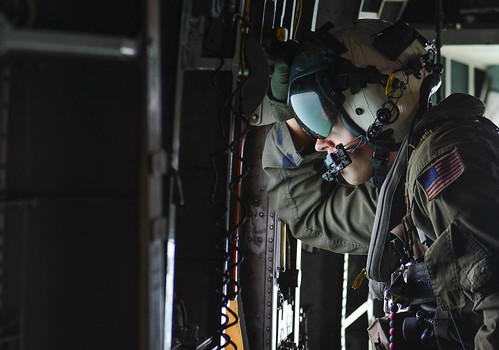soldier: (264, 19, 499, 350)
